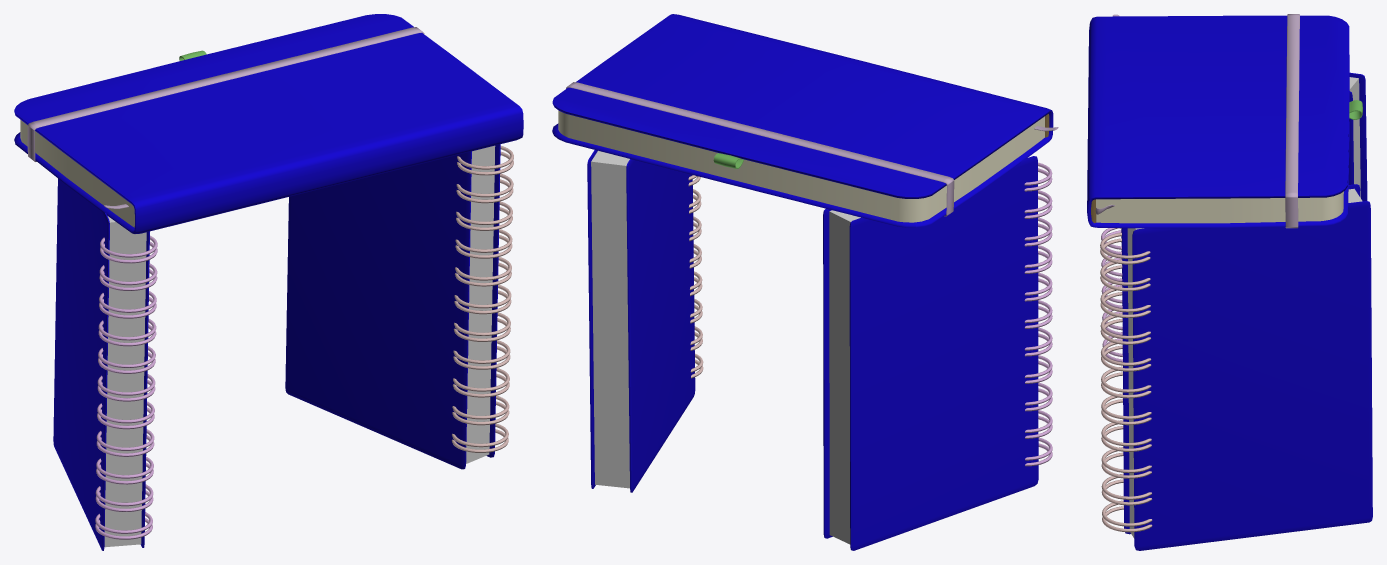
The model's file is 골대파랑.fbx.
3 renders of one model, left to right at view 1: azimuth 30°, elevation 25°; view 2: azimuth 150°, elevation 25°; view 3: azimuth 270°, elevation 25°, orthographic. The views are drawn at different scales.
Visible parts, largest first — view 1: leather_notebook.009, notebook_with_springs.005, notebook_with_springs.004; view 2: notebook_with_springs.004, leather_notebook.009, notebook_with_springs.005; view 3: notebook_with_springs.005, leather_notebook.009, notebook_with_springs.004.
Boxes of the visible parts, <box> form: leather_notebook.009: <box>14,14,523,233</box>; notebook_with_springs.005: <box>285,144,513,469</box>; notebook_with_springs.004: <box>53,178,157,550</box>; notebook_with_springs.004: <box>823,156,1052,550</box>; leather_notebook.009: <box>552,14,1058,227</box>; notebook_with_springs.005: <box>587,150,703,492</box>; notebook_with_springs.005: <box>1100,184,1372,550</box>; leather_notebook.009: <box>1087,14,1362,228</box>; notebook_with_springs.004: <box>1101,72,1367,362</box>.
Size of the model in its own units: 2325 by 1997 by 1437.
